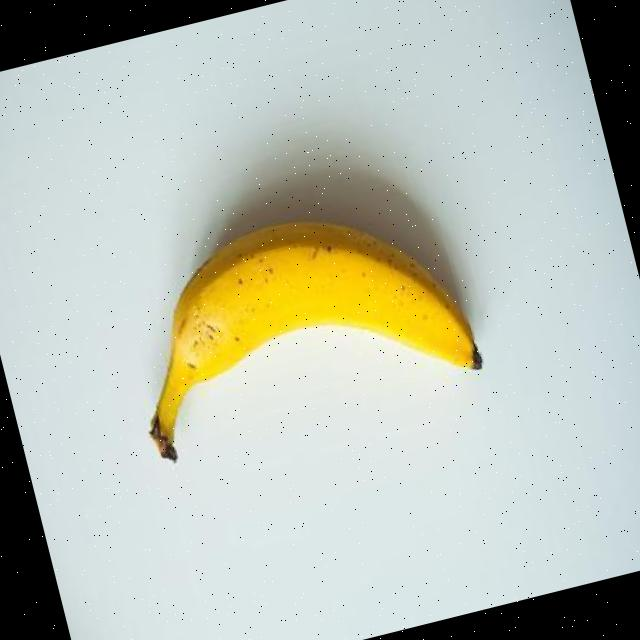banana: (146, 218, 482, 458)
